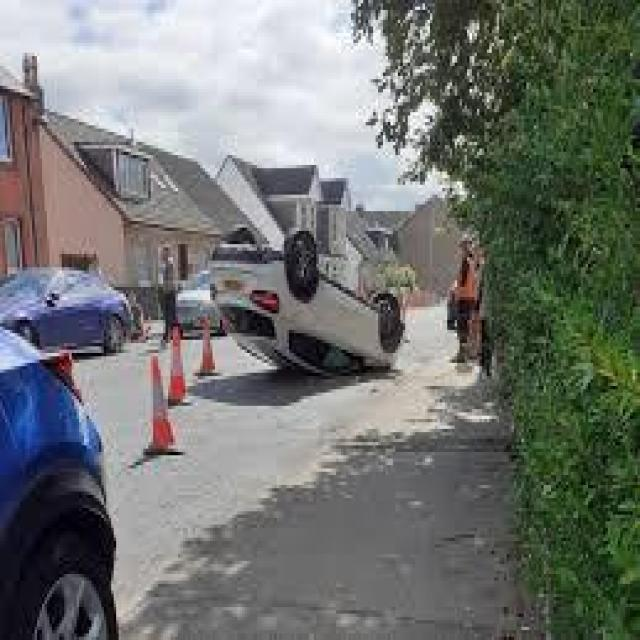accident: (204, 218, 404, 389)
